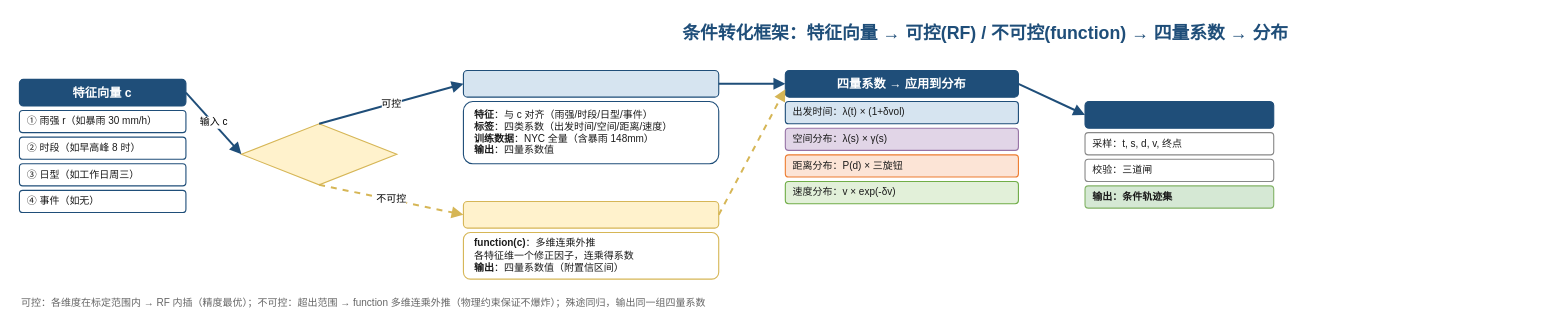
Image size: 1560x331. Some labels were removed from this diagram. The centre of each missing label's shape, as x and y in pixels:
c 在可控范围？: the point at 318,154
不可控 → function 外推: the point at 590,214
可控 → RF 内插: the point at 590,83
采样 → 校验 → 输出: the point at 1179,114
